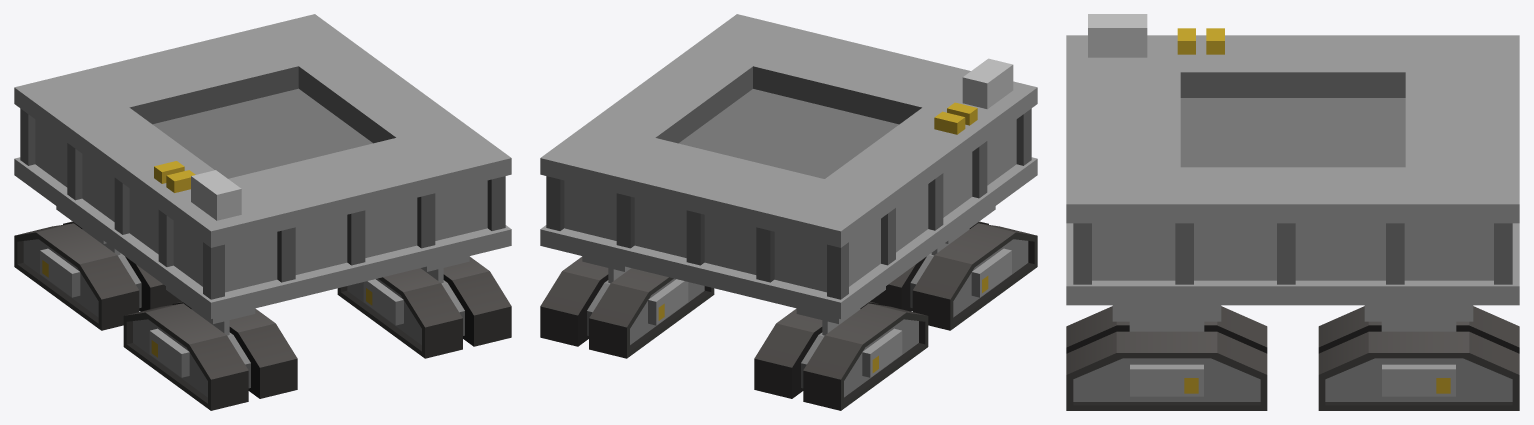
The model's file is SM_Bld_ShuttleLaunchPad_02.fbx.
The picture shows the model from 3 angles, left to right: view 1: azimuth 30°, elevation 25°; view 2: azimuth 150°, elevation 25°; view 3: azimuth 270°, elevation 25°; orthographic projection. The views are drawn at different scales.
Visible parts, largest first — view 1: SM_Bld_ShuttleLaunchPad_02; view 2: SM_Bld_ShuttleLaunchPad_02; view 3: SM_Bld_ShuttleLaunchPad_02.
Boxes of the visible parts, x1=… form: SM_Bld_ShuttleLaunchPad_02: x1=14, y1=14, x2=511, y2=410; SM_Bld_ShuttleLaunchPad_02: x1=540, y1=14, x2=1037, y2=410; SM_Bld_ShuttleLaunchPad_02: x1=1066, y1=14, x2=1519, y2=410.
Bounding box in the file's own units: 16.8 × 10.84 × 18.82.
